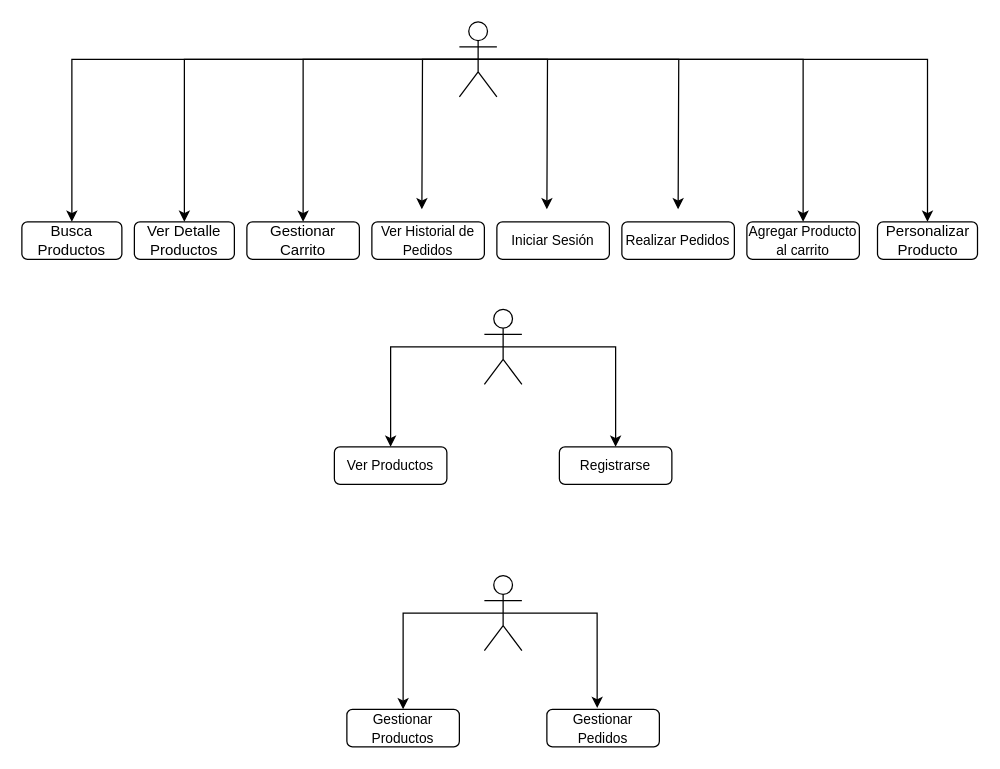
Some shapes in this 1000 by 769 pixel diagram are drawn without their labels. Each missing label, with the box of its shape:
Adminisitrador: (483, 574, 522, 651)
Usuario No Registrado: (483, 308, 522, 384)
Usuario Registrado: (458, 21, 497, 97)
